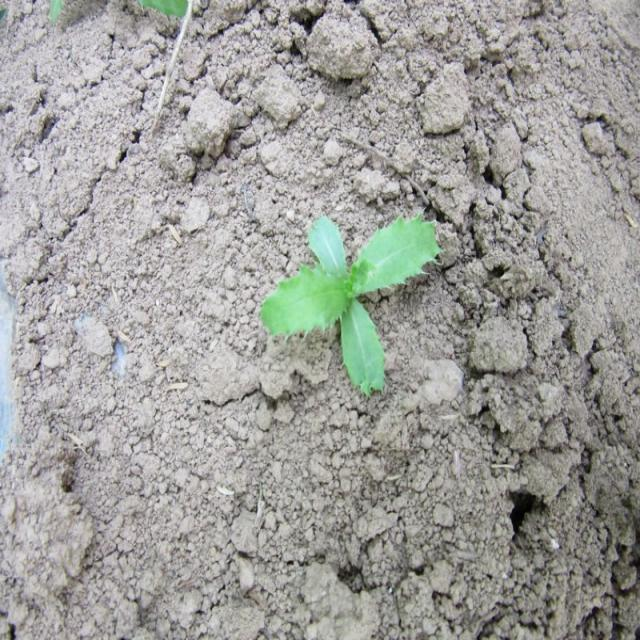field_thistle: (230, 180, 453, 397)
